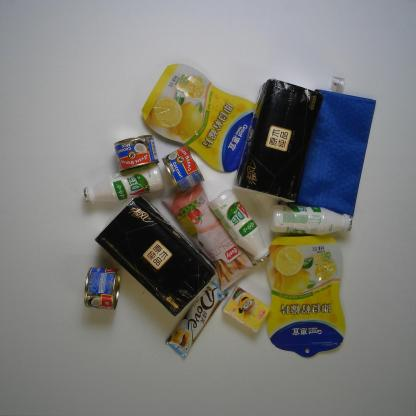Canned Food: (160, 144, 206, 192), (112, 134, 160, 174), (81, 265, 121, 310)
Chocolate: (165, 274, 235, 360)
Dessert: (161, 181, 258, 286)
Dried Fruit: (139, 60, 267, 174), (264, 234, 346, 359)
Milk: (206, 187, 271, 262), (82, 161, 166, 207), (268, 204, 354, 237)
Stationery: (288, 77, 376, 223)
Tissue: (94, 194, 216, 316), (233, 79, 323, 203), (222, 287, 272, 334)
